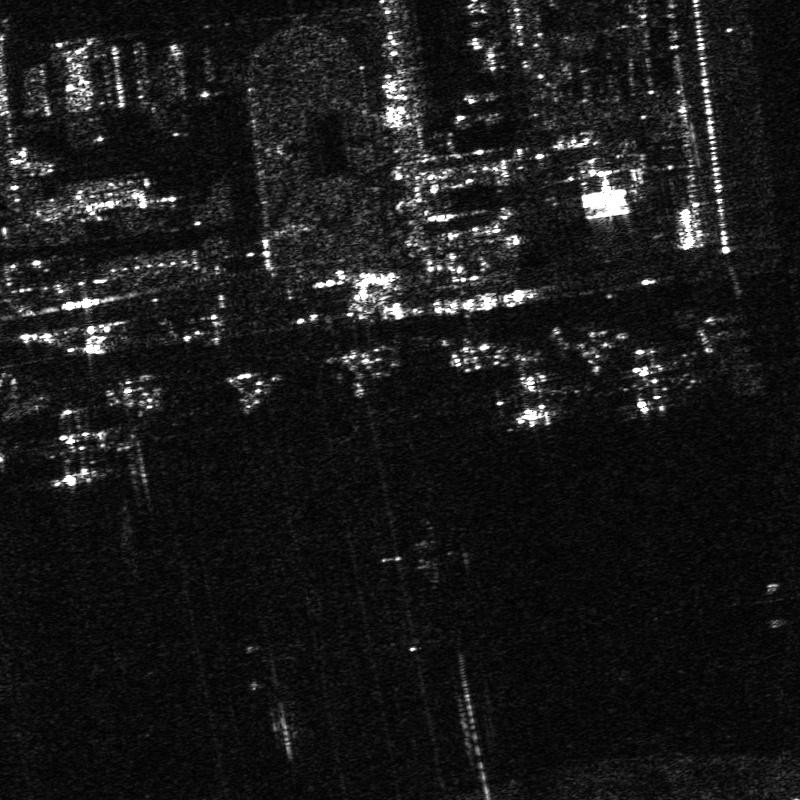Boeing737: (489, 365, 576, 423)
Boeing787: (605, 339, 696, 417)
other: (39, 401, 120, 487)
